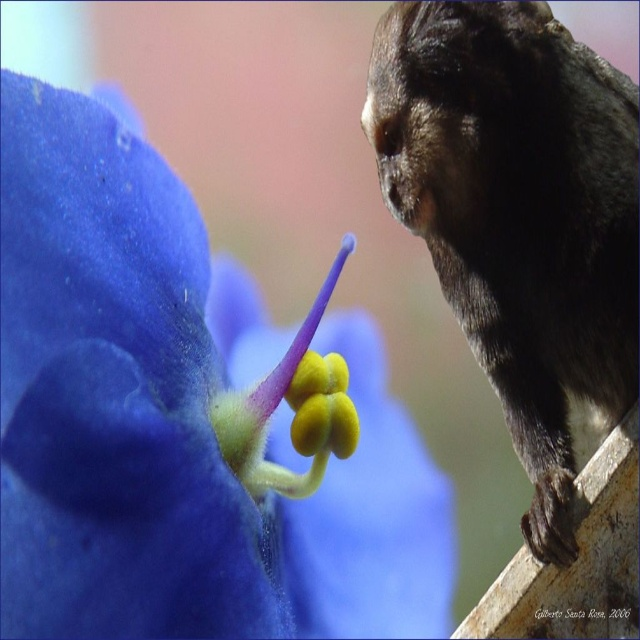Monkey: (366, 0, 640, 607)
